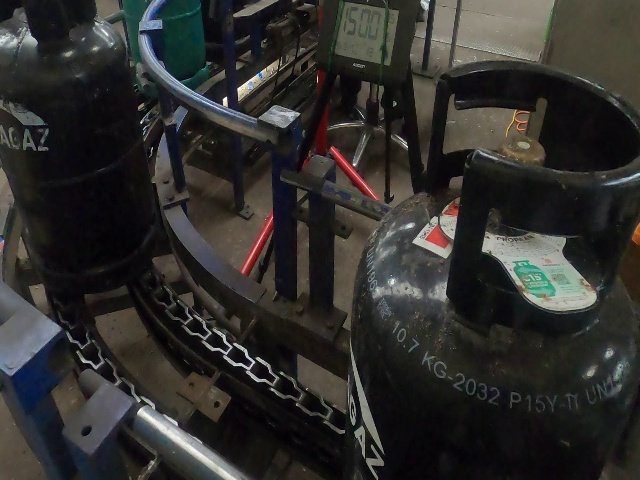gas_bottle: (0, 1, 631, 480)
